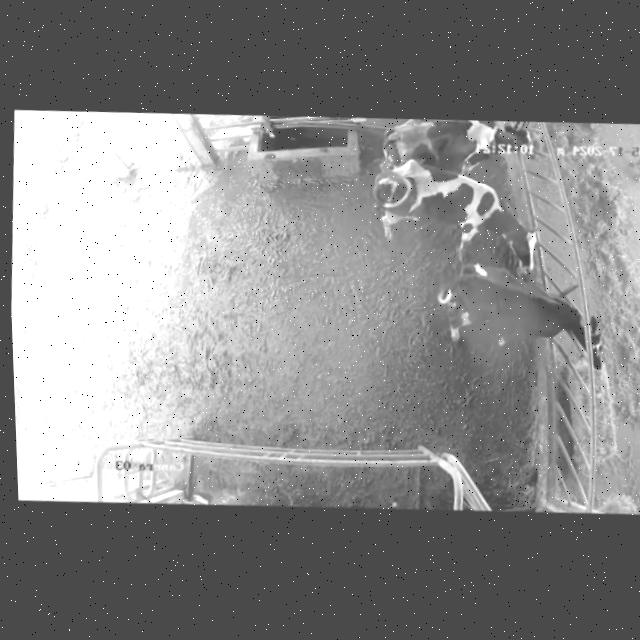eat: (520, 298, 623, 376)
stand: (360, 155, 554, 284), (373, 117, 535, 174)
